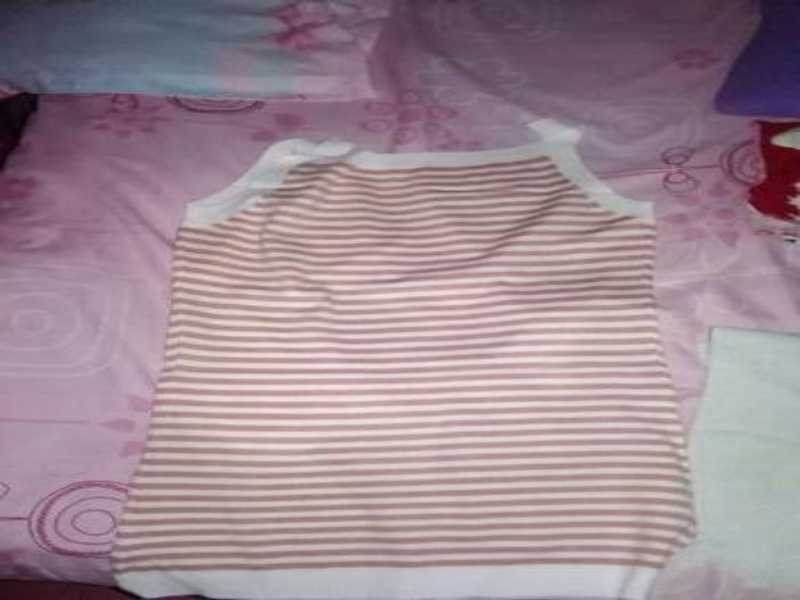sling_dress: (107, 109, 718, 599)
